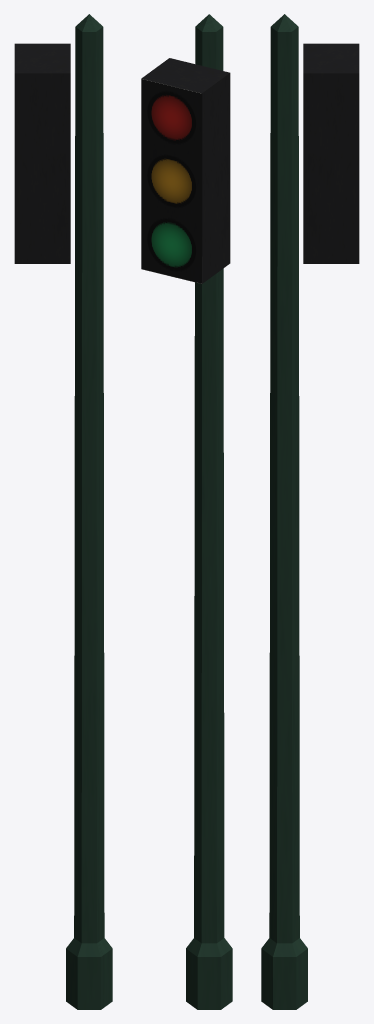
File: SM_Morin_Semaforo_LOD2.fbx
3 renders of one model, left to right at view 1: azimuth 90°, elevation 25°; view 2: azimuth 150°, elevation 25°; view 3: azimuth 270°, elevation 25°, orthographic.
Visible parts, largest first — view 1: SM_Morin_Semaforo_LOD2; view 2: SM_Morin_Semaforo_LOD2; view 3: SM_Morin_Semaforo_LOD2.
Part boxes in pixels (x1,y1,x2,y2): SM_Morin_Semaforo_LOD2: (14,14,112,1009); SM_Morin_Semaforo_LOD2: (141,14,232,1009); SM_Morin_Semaforo_LOD2: (261,14,359,1009).
Size of the model in its own units: 30 by 42.1 by 466.
1 material, 1 textured.
